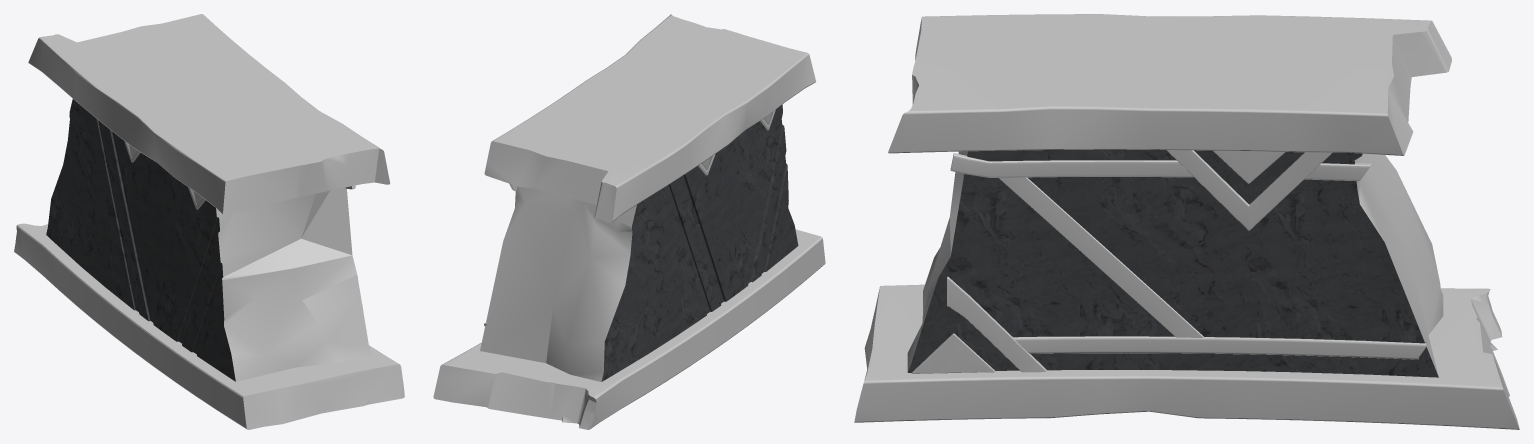
3 renders of one model, left to right at view 1: azimuth 30°, elevation 25°; view 2: azimuth 150°, elevation 25°; view 3: azimuth 270°, elevation 25°, orthographic. The views are drawn at different scales.
Parts seen in each view (by area): view 1: SM_Kuldras_Arena_RingPiece_09_LOD0; view 2: SM_Kuldras_Arena_RingPiece_09_LOD0; view 3: SM_Kuldras_Arena_RingPiece_09_LOD0.
Part boxes in pixels (x1,y1,x2,y2): SM_Kuldras_Arena_RingPiece_09_LOD0: (14, 14, 404, 429); SM_Kuldras_Arena_RingPiece_09_LOD0: (433, 14, 825, 429); SM_Kuldras_Arena_RingPiece_09_LOD0: (854, 14, 1519, 429).
Bounding box in the file's own units: 8.63 × 11.4 × 22.18.
